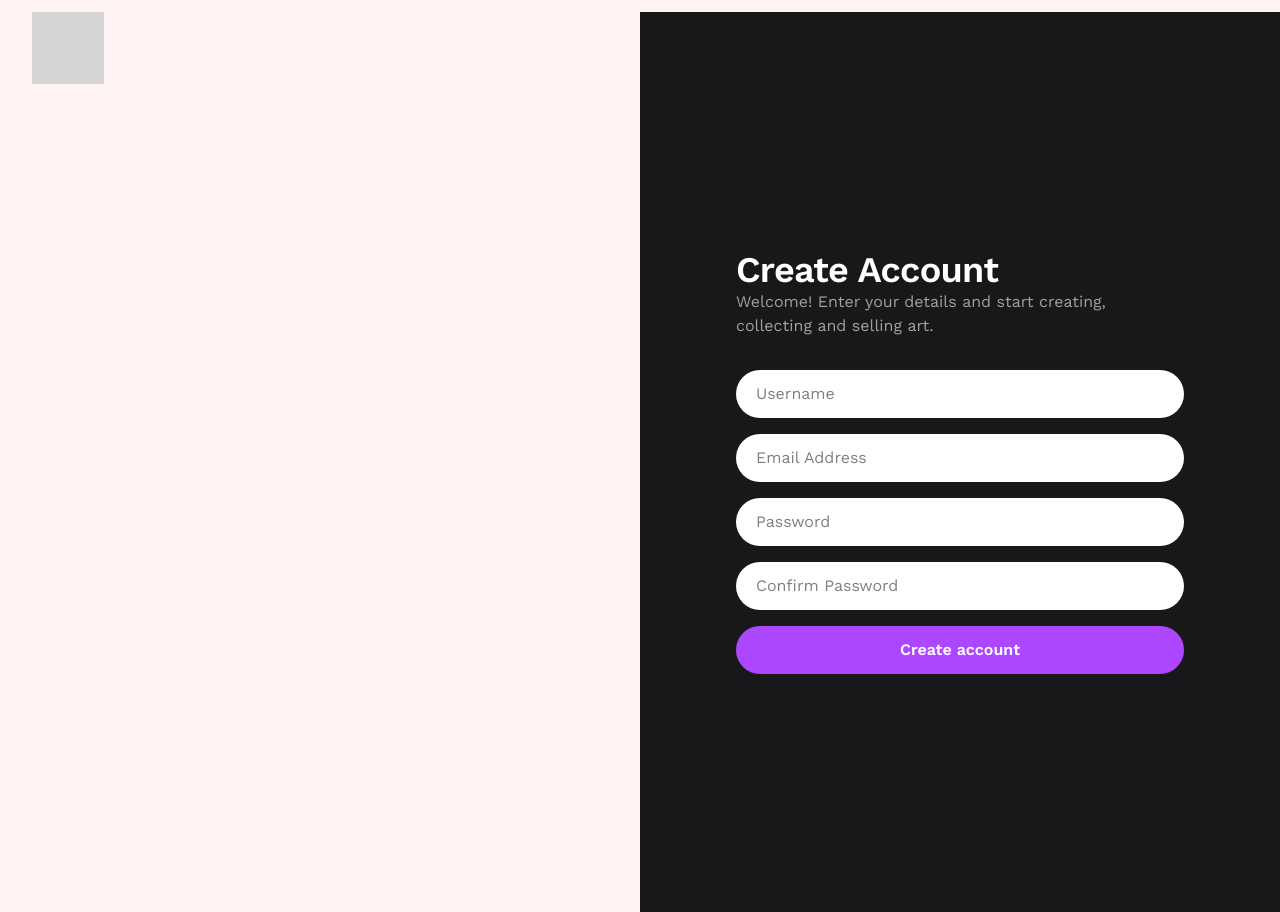
Test: SignupPage › shows a validation error when passwords do not match
The width and height of the screenshot is (1280, 912).
Type "artist" into the field with placeholder "Username" at (960, 394), box left=736, top=370, right=1184, bottom=418
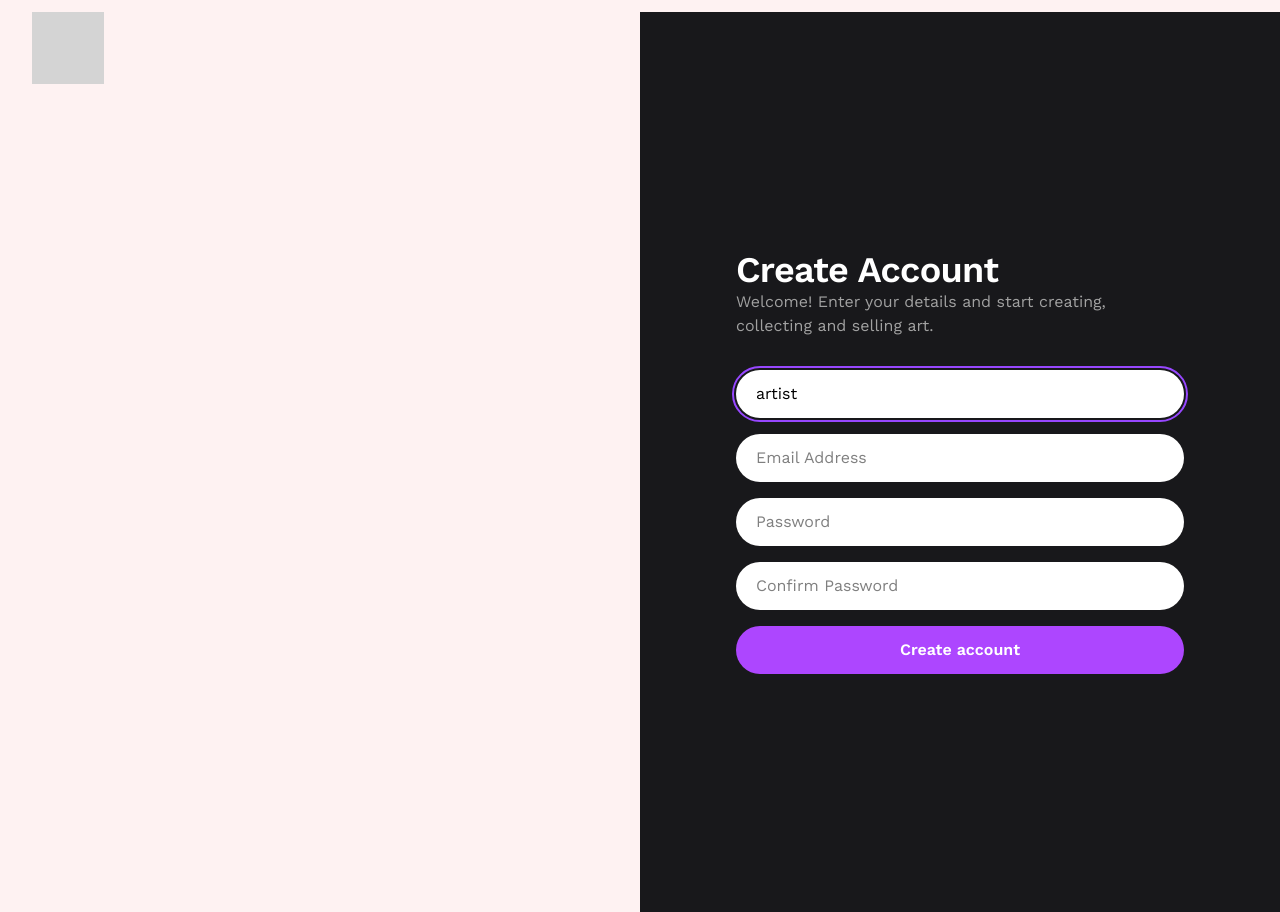
Type "me@test.io" into the field with placeholder "Email Address" at (960, 458), box left=736, top=434, right=1184, bottom=482
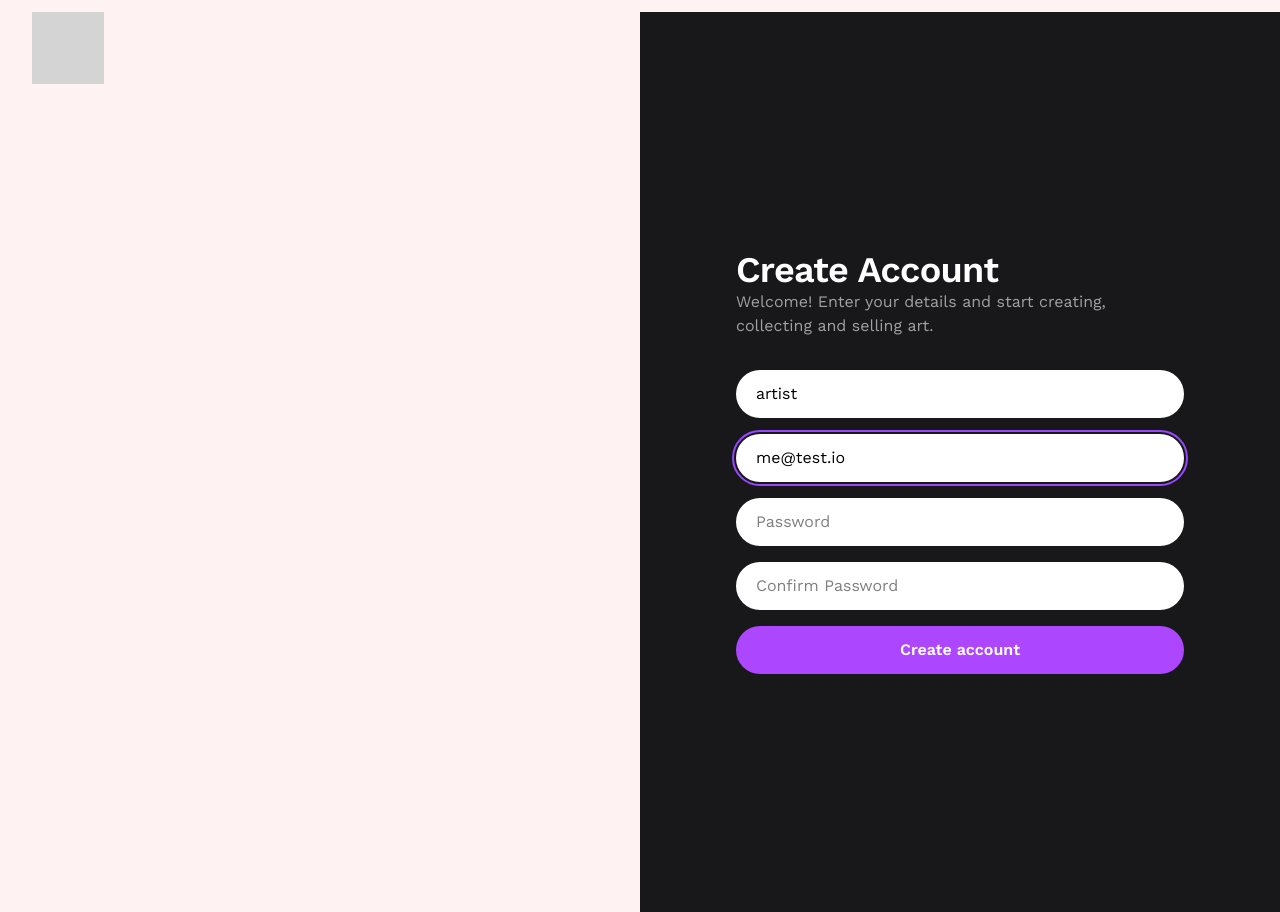
Type "pass1" into the password field with placeholder "Password" at (960, 522), box left=736, top=498, right=1184, bottom=546
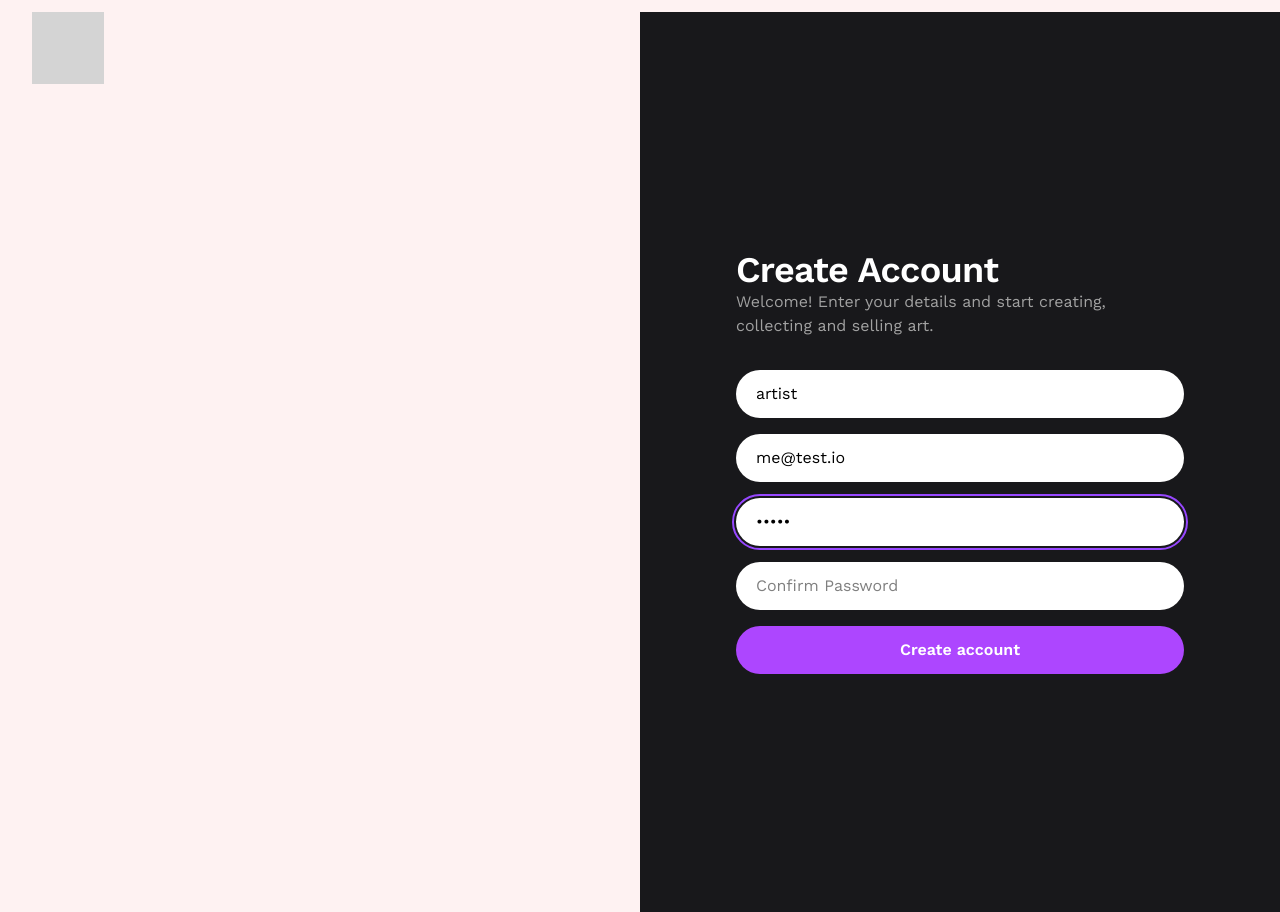
Type "pass2" into the password field with placeholder "Confirm Password" at (960, 586), box left=736, top=562, right=1184, bottom=610
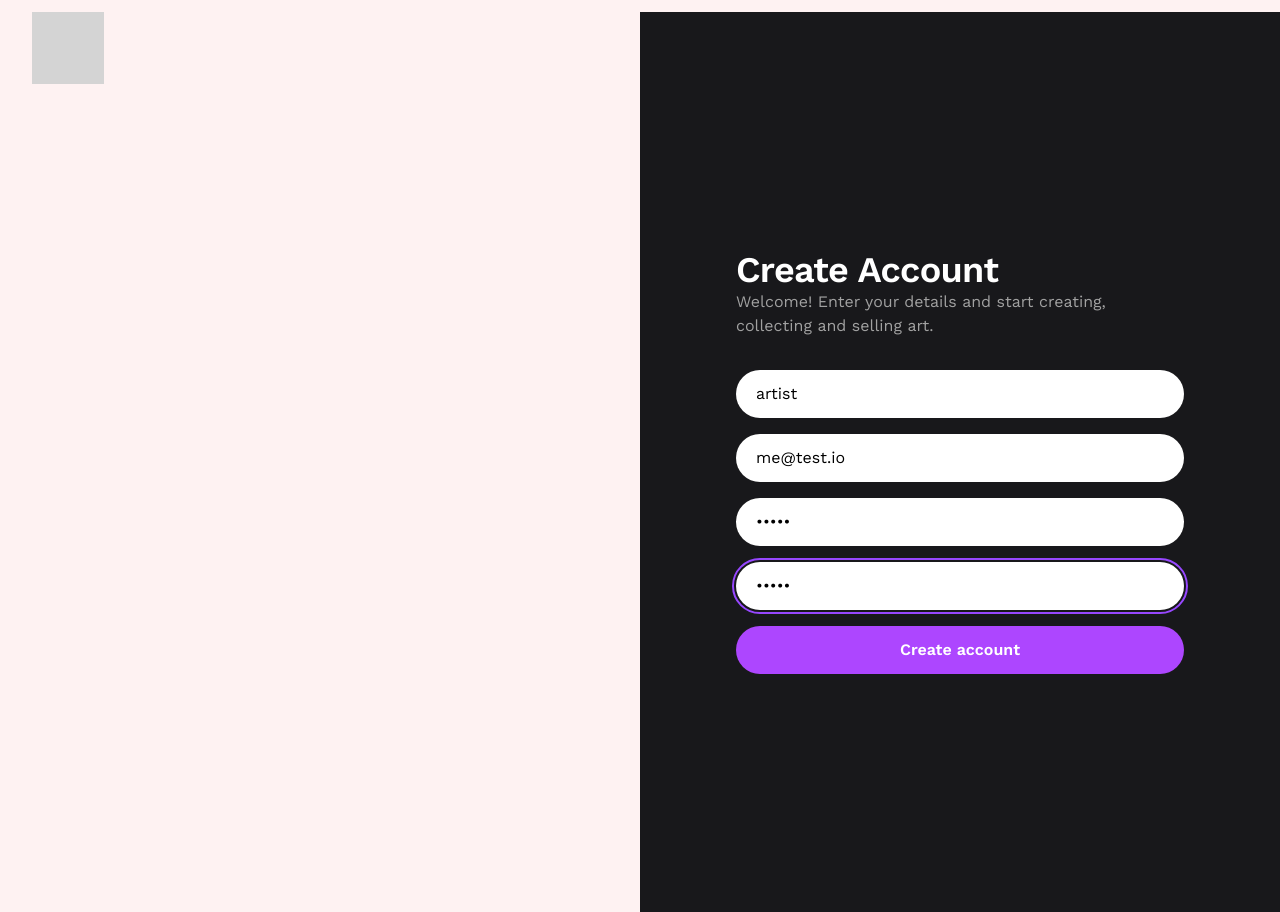
Click the button "Create account" at (960, 650), box left=736, top=626, right=1184, bottom=674
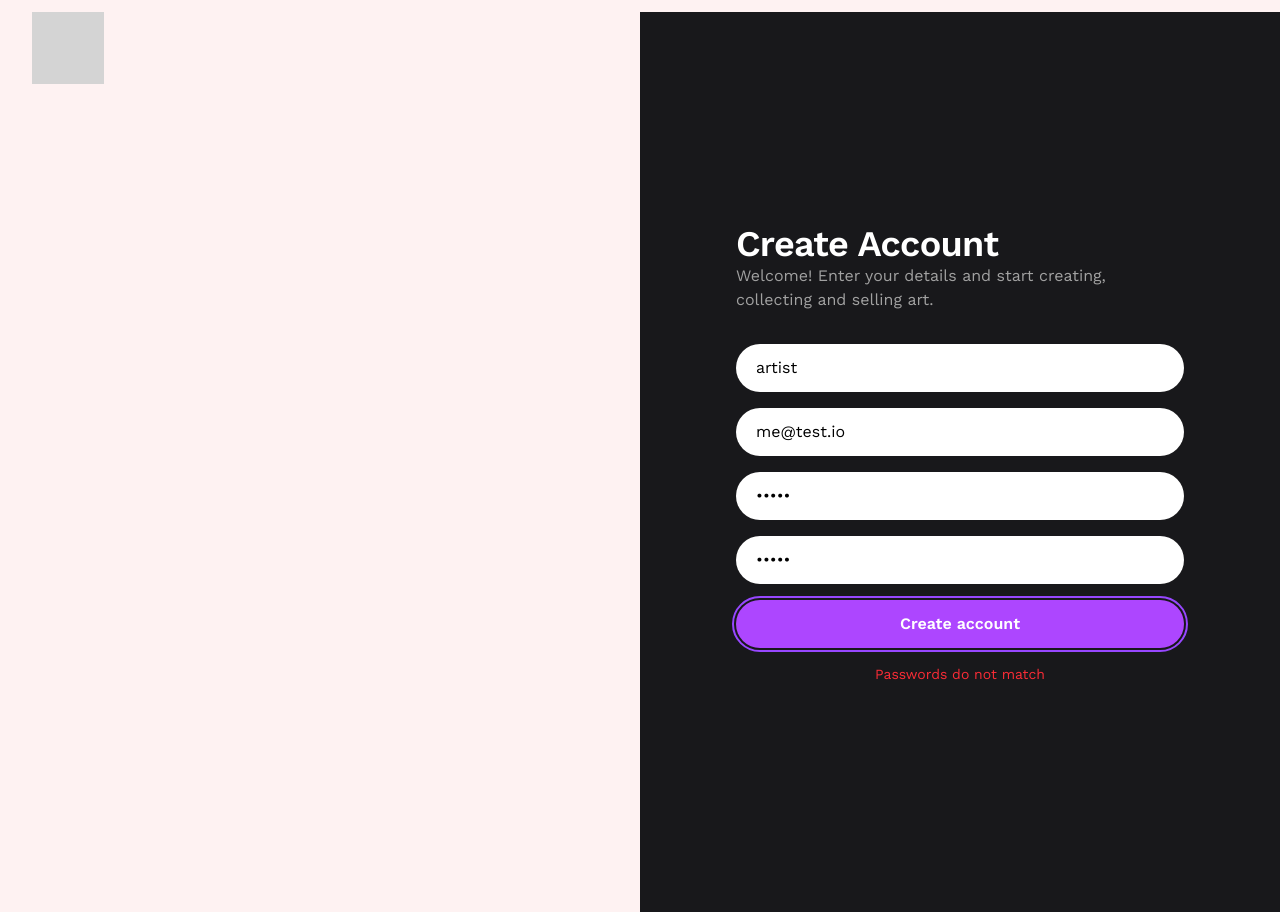
Result: the text "Passwords do not match" is shown at left=875, top=666, right=1045, bottom=682
